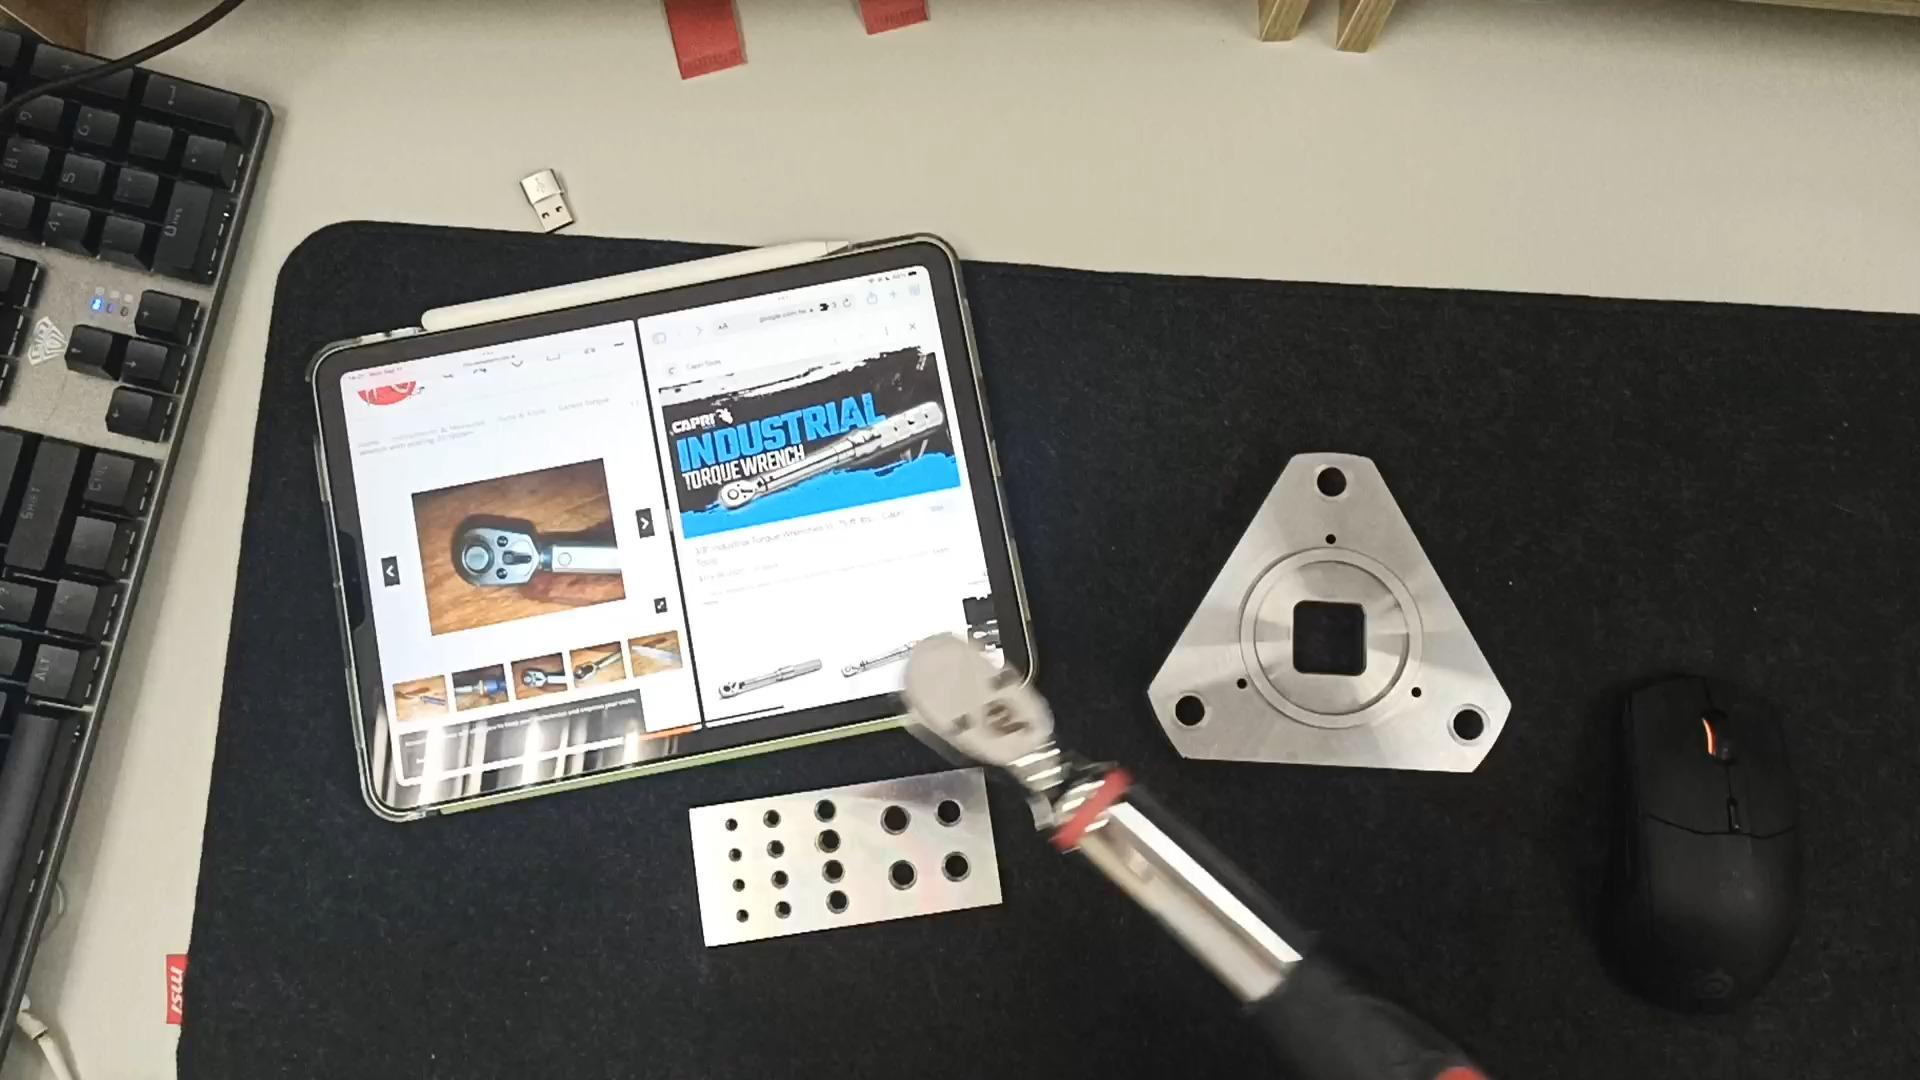Tool: (893, 633, 1092, 825), (454, 520, 538, 596), (716, 473, 766, 518)
hole: (1435, 707, 1503, 756), (1298, 467, 1362, 510), (1156, 696, 1217, 741), (922, 849, 982, 887), (858, 803, 916, 840), (866, 857, 924, 894), (919, 796, 969, 833), (800, 798, 845, 827), (802, 831, 848, 858), (807, 860, 853, 887), (812, 889, 857, 915), (756, 840, 798, 864), (745, 808, 785, 831), (761, 869, 800, 891), (764, 903, 800, 924), (713, 848, 748, 868), (708, 815, 742, 833), (717, 877, 750, 895), (719, 909, 752, 927)
